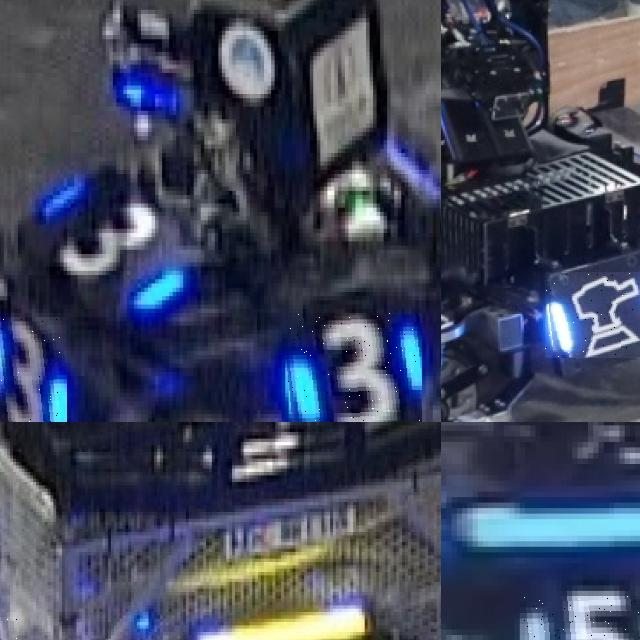B3: (281, 312, 422, 422), (0, 317, 67, 422)
B5: (520, 596, 640, 640)
Bs: (544, 271, 640, 358)
